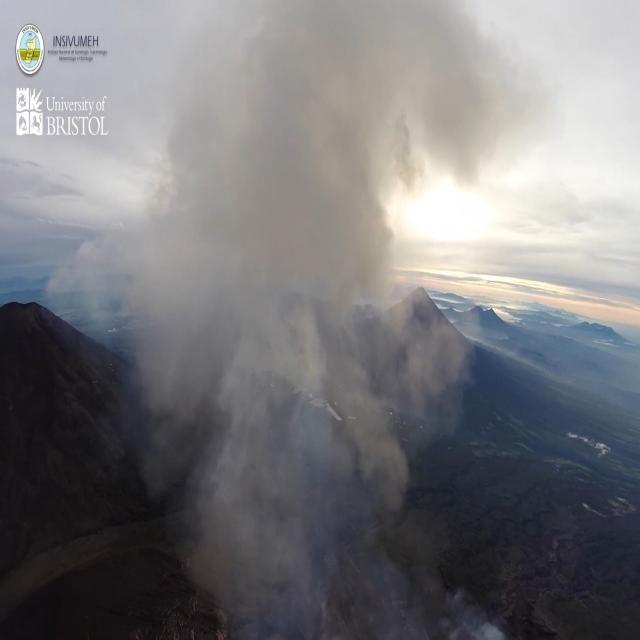Plume: (128, 5, 556, 458)
